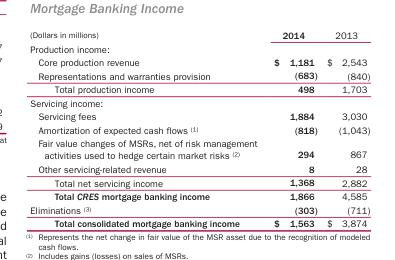table: (29, 28, 369, 228)
table column: (29, 28, 264, 228), (264, 28, 321, 228), (321, 28, 369, 228)
table column header: (29, 28, 369, 41)
table projected row header: (29, 95, 369, 109), (29, 41, 369, 54)
table row: (29, 136, 369, 161), (29, 54, 369, 68), (29, 68, 369, 82), (29, 95, 369, 109), (29, 122, 369, 136), (29, 161, 369, 175), (29, 175, 369, 189), (29, 202, 369, 216), (29, 28, 369, 41), (29, 41, 369, 54), (29, 82, 369, 95), (29, 109, 369, 122), (29, 189, 369, 202), (29, 216, 369, 228)
